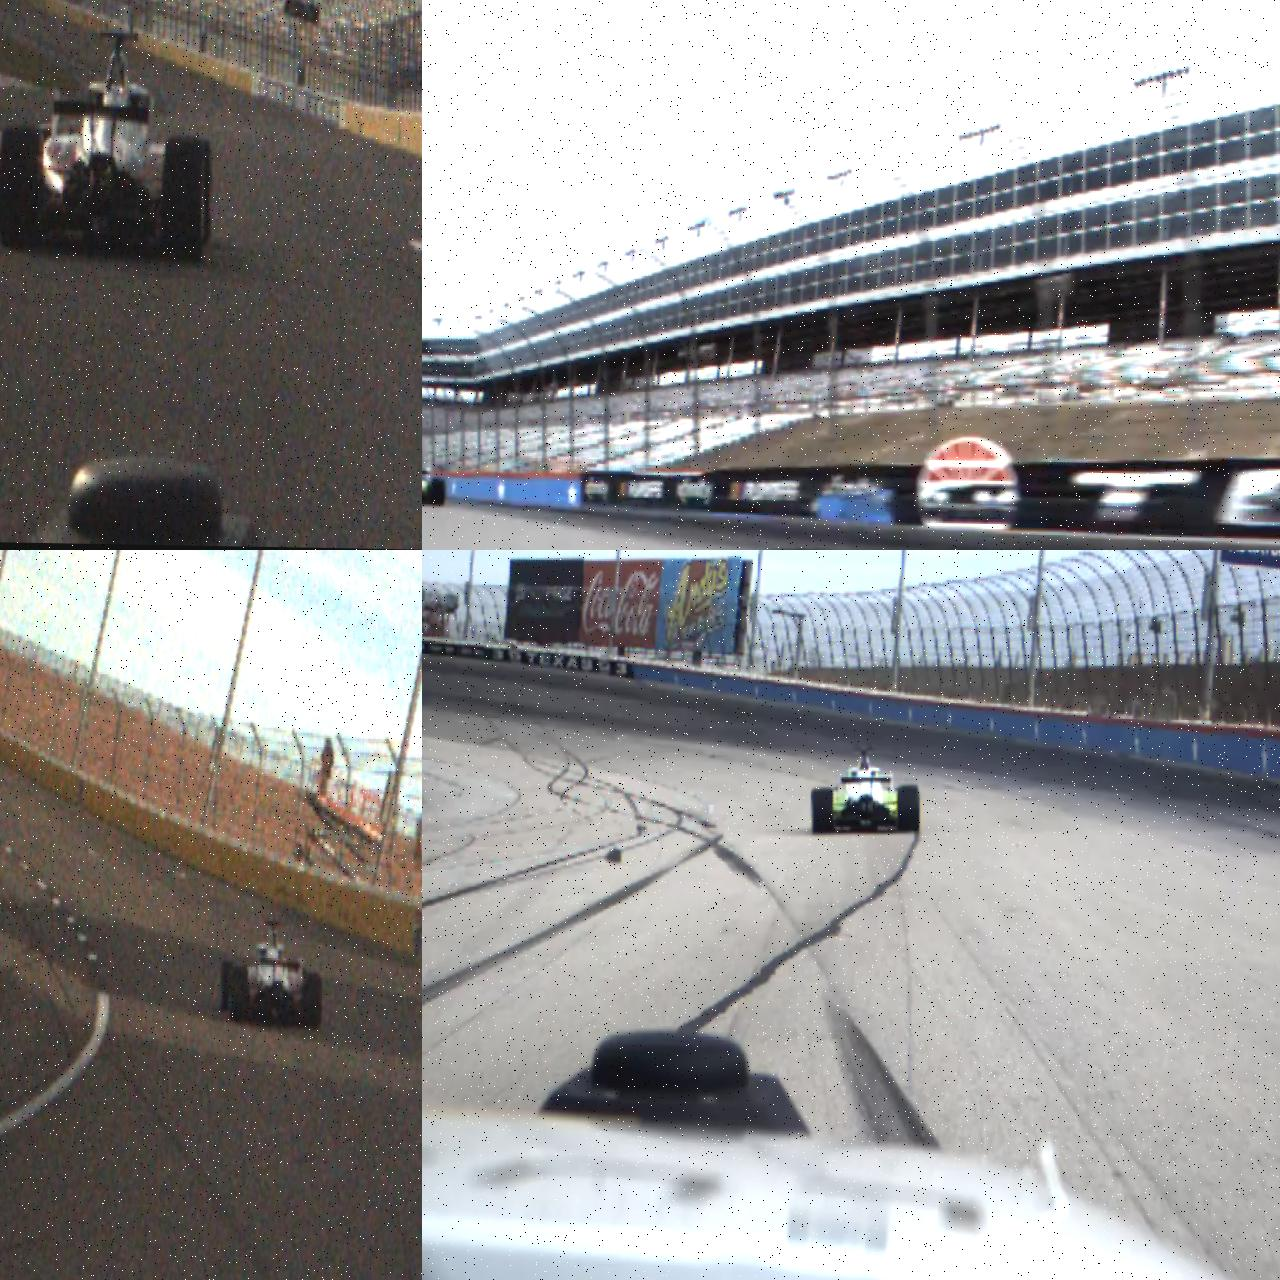AV: (0, 27, 218, 267), (218, 915, 325, 1032), (810, 745, 921, 835), (422, 452, 448, 508)
Wheel: (0, 127, 46, 252), (163, 136, 206, 266), (229, 966, 250, 1023), (897, 785, 920, 835), (304, 973, 324, 1030), (811, 788, 835, 833), (219, 960, 234, 1015), (431, 478, 447, 506)
